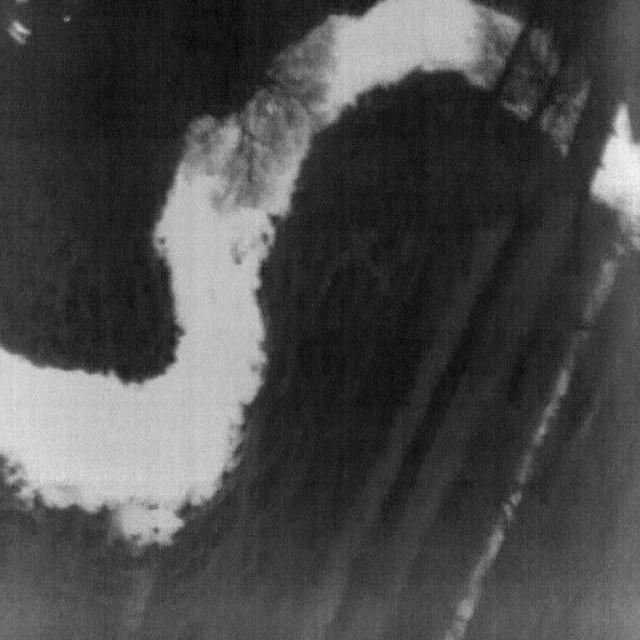deer: (7, 26, 27, 45), (11, 20, 32, 37)
